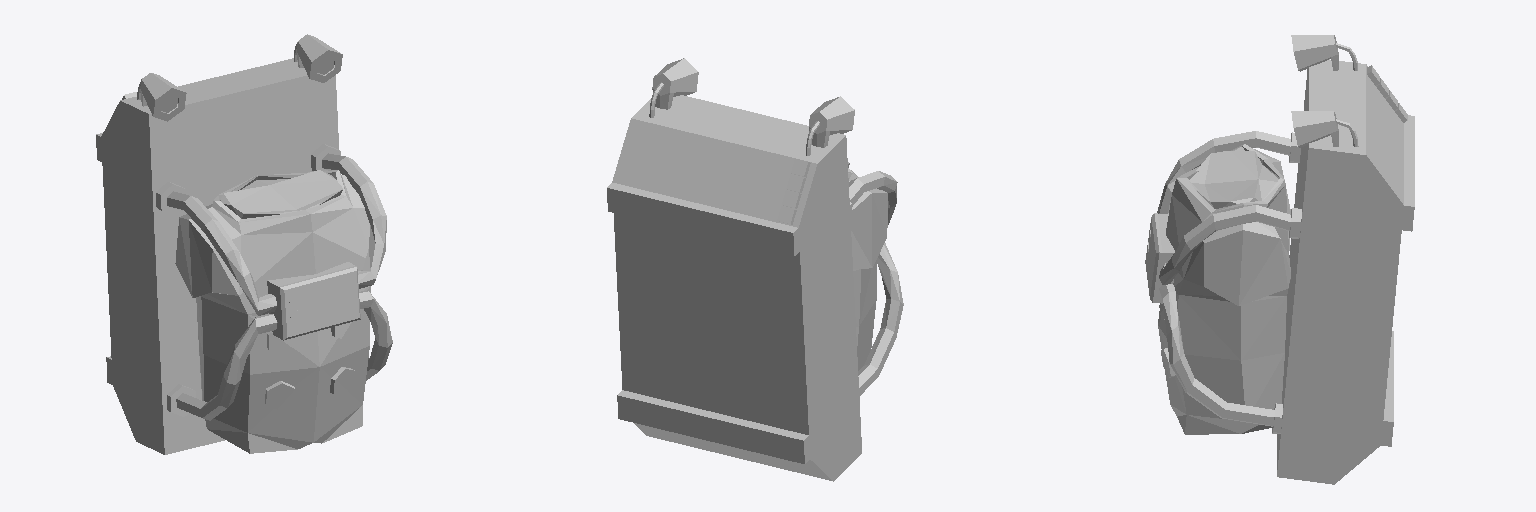
The model's file is astronauta_torso_backpack.obj.
The picture shows the model from 3 angles: view 1: azimuth 30°, elevation 25°; view 2: azimuth 150°, elevation 25°; view 3: azimuth 270°, elevation 25°; orthographic projection.
Parts seen in each view (by area): view 1: Mochila_Cubo.003, Astronauta_Cubo, Lanternas_Cubo.006, Lanternas2_Cubo.008; view 2: Mochila_Cubo.003, Astronauta_Cubo, Lanternas2_Cubo.008, Lanternas_Cubo.006, LuzesMochila_Cubo.005; view 3: Mochila_Cubo.003, Astronauta_Cubo, Lanternas2_Cubo.008, Lanternas_Cubo.006, LuzesMochila_Cubo.005.
Boxes of the visible parts, box(x1,y1,x2,y2) form: Mochila_Cubo.003: box(96, 58, 392, 454); Astronauta_Cubo: box(175, 170, 370, 453); Lanternas_Cubo.006: box(137, 73, 186, 121); Lanternas2_Cubo.008: box(294, 34, 342, 82); Mochila_Cubo.003: box(607, 95, 903, 481); Astronauta_Cubo: box(848, 162, 887, 370); Lanternas2_Cubo.008: box(649, 58, 698, 117); Lanternas_Cubo.006: box(806, 96, 854, 155); LuzesMochila_Cubo.005: box(777, 159, 810, 224); Mochila_Cubo.003: box(1145, 59, 1414, 484); Astronauta_Cubo: box(1158, 144, 1290, 434); Lanternas2_Cubo.008: box(1291, 111, 1358, 147); Lanternas_Cubo.006: box(1291, 35, 1357, 71); LuzesMochila_Cubo.005: box(1367, 65, 1407, 122).
Bounding box in the file's own units: 0.426 × 0.7935 × 0.5298.